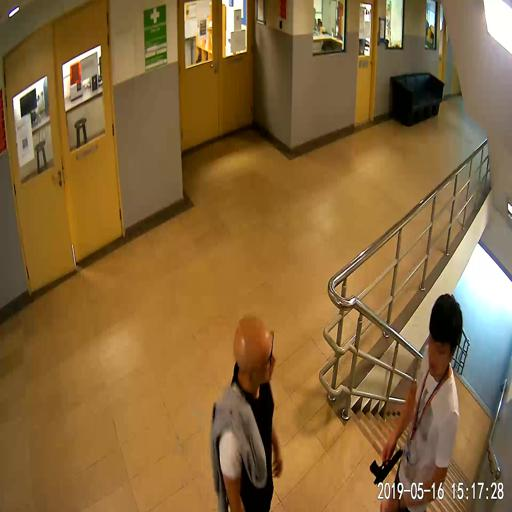pistol: (370, 448, 402, 484)
